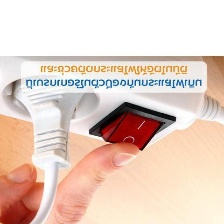three_eye_plug: (0, 43, 215, 156)
